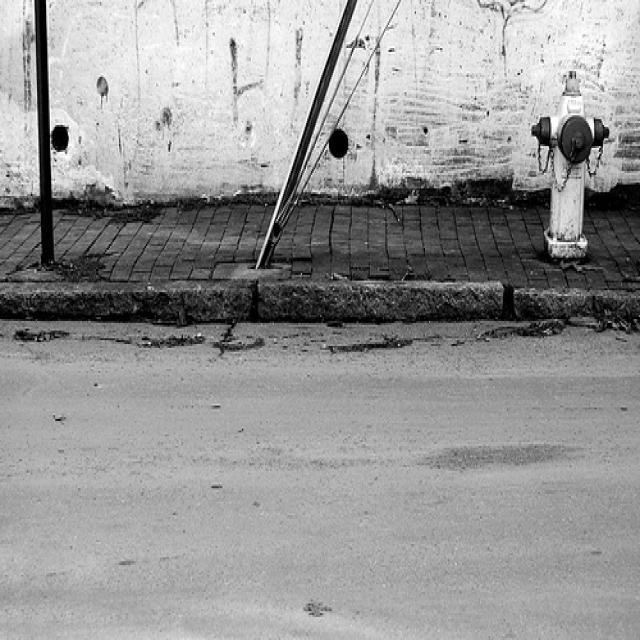fire_hydrant: (528, 70, 616, 262)
